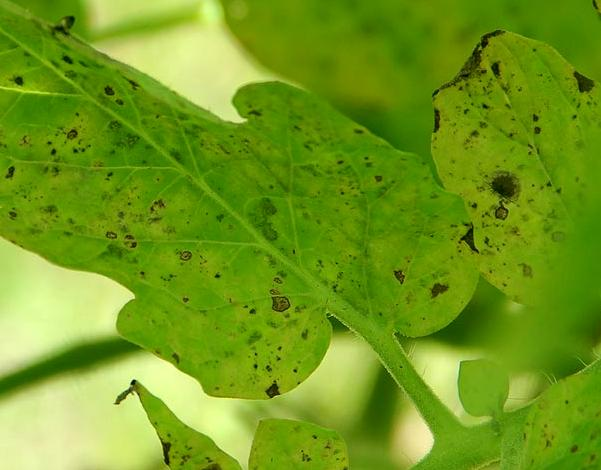Tomato Septoria leaf spot: (0, 0, 482, 385), (398, 0, 601, 376)
